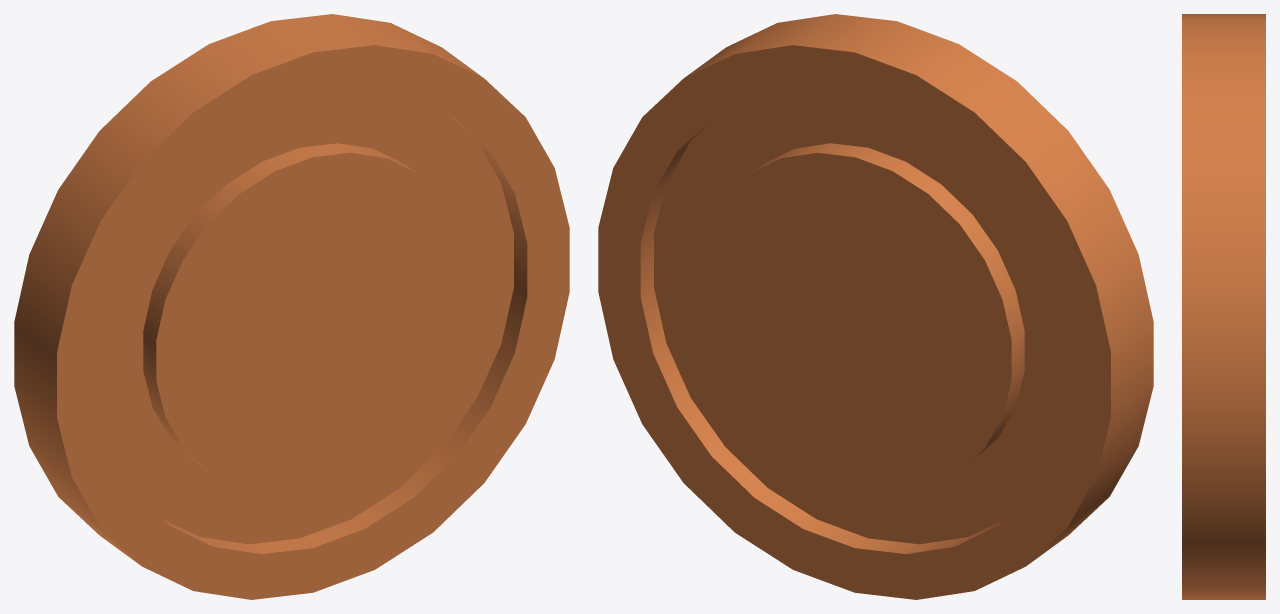
Rendered from Coin_Bronze.fbx.
3 views of the same model, side by side, from view 1: azimuth 30°, elevation 25°; view 2: azimuth 150°, elevation 25°; view 3: azimuth 270°, elevation 25° (orthographic).
Visible parts, largest first — view 1: Coin Bronze; view 2: Coin Bronze; view 3: Coin Bronze.
Boxes of the visible parts, left/top/right/bottom form: Coin Bronze: left=14, top=14, right=569, bottom=599; Coin Bronze: left=598, top=14, right=1153, bottom=599; Coin Bronze: left=1182, top=14, right=1265, bottom=599.
Size of the model in its own units: 58.22 by 58.65 by 8.37.
Materials: 1 (1 with a texture image).
